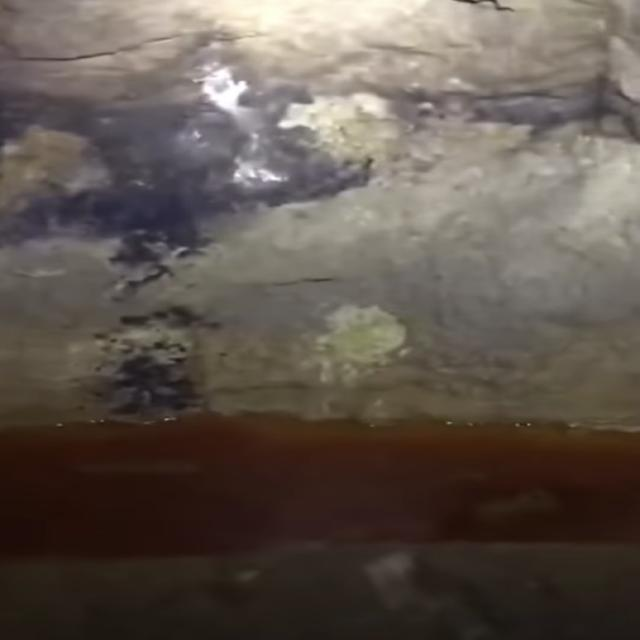yellow_boy: (3, 414, 639, 559)
